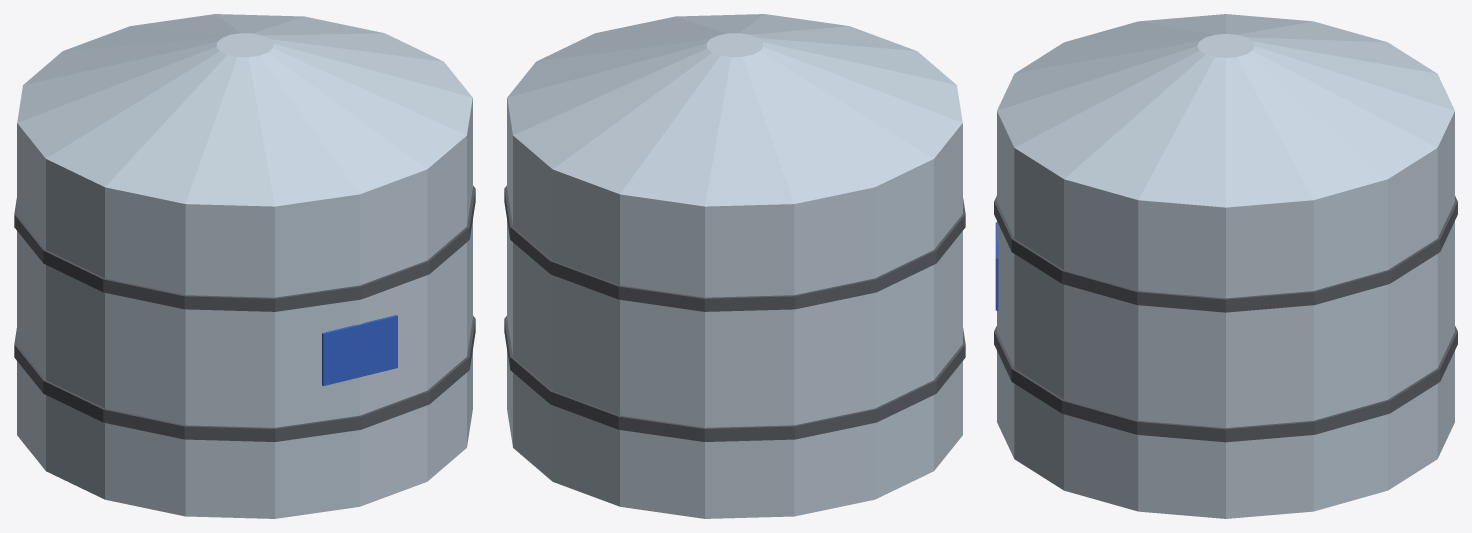
The model's file is p_watertank.glb.
3 renders of one model, left to right at view 1: azimuth 30°, elevation 25°; view 2: azimuth 150°, elevation 25°; view 3: azimuth 270°, elevation 25°, orthographic.
Visible parts, largest first — view 1: watertank; view 2: watertank; view 3: watertank.
Boxes of the visible parts, x1,y1,x2,y2 form: watertank: [14, 14, 475, 518]; watertank: [504, 14, 965, 518]; watertank: [994, 14, 1457, 518].
Size of the model in its own units: 3.24 by 2.9 by 3.24.
